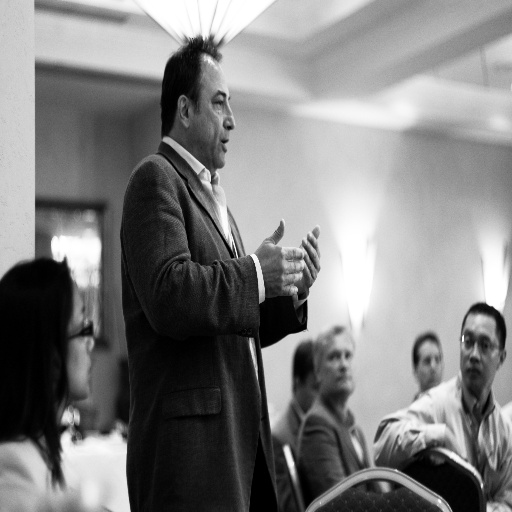hand: (247, 230, 309, 308), (297, 222, 320, 296), (443, 423, 463, 457)
